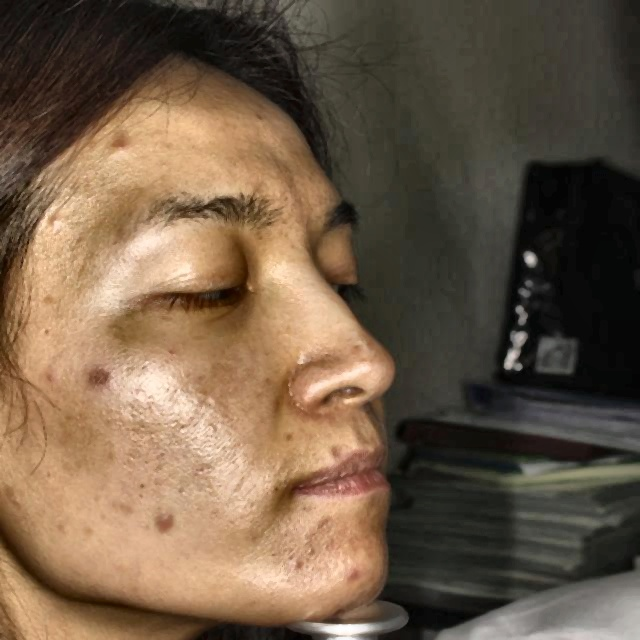pustule: (147, 500, 177, 538), (82, 359, 112, 394), (339, 561, 368, 593), (305, 515, 331, 539), (109, 128, 133, 152), (35, 364, 55, 390), (44, 207, 66, 230)
